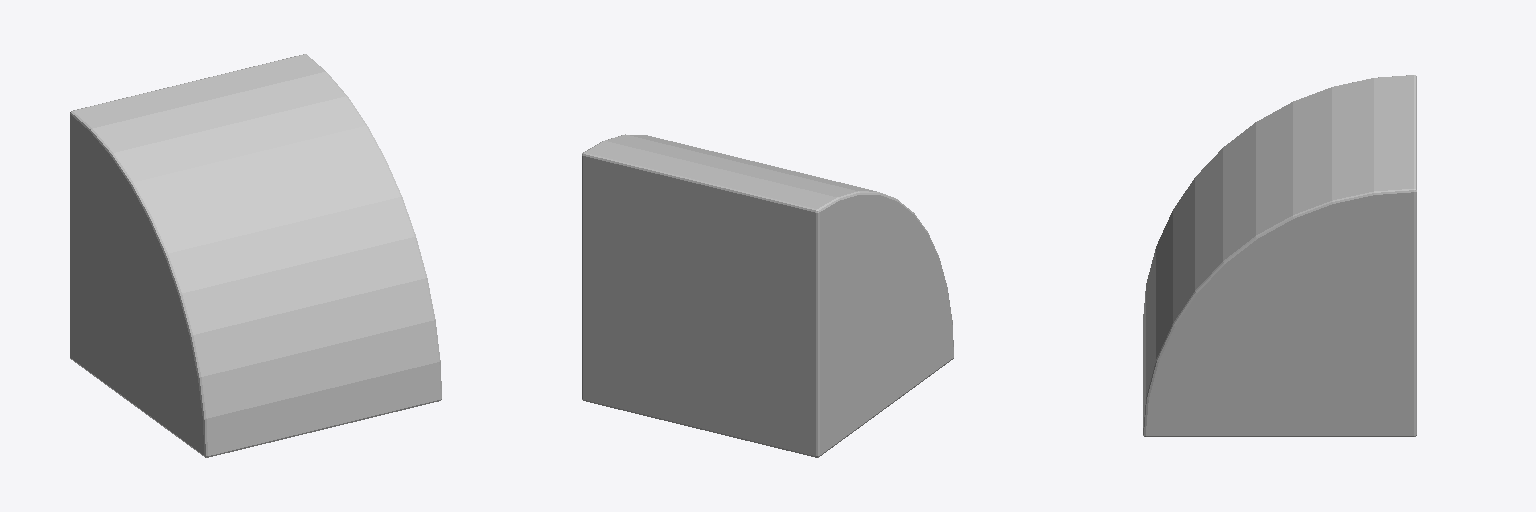
File: Block4QUARTERCYLINDER.obj
3 views of the same model, side by side, from view 1: azimuth 30°, elevation 25°; view 2: azimuth 150°, elevation 25°; view 3: azimuth 270°, elevation 25° (orthographic).
Visible parts, largest first — view 1: pCylinder1; view 2: pCylinder1; view 3: pCylinder1.
Part boxes in pixels (x1,y1,x2,y2): pCylinder1: (70,54,441,457); pCylinder1: (582,134,953,457); pCylinder1: (1143,75,1416,436).
Size of the model in its own units: 200 by 200 by 200.